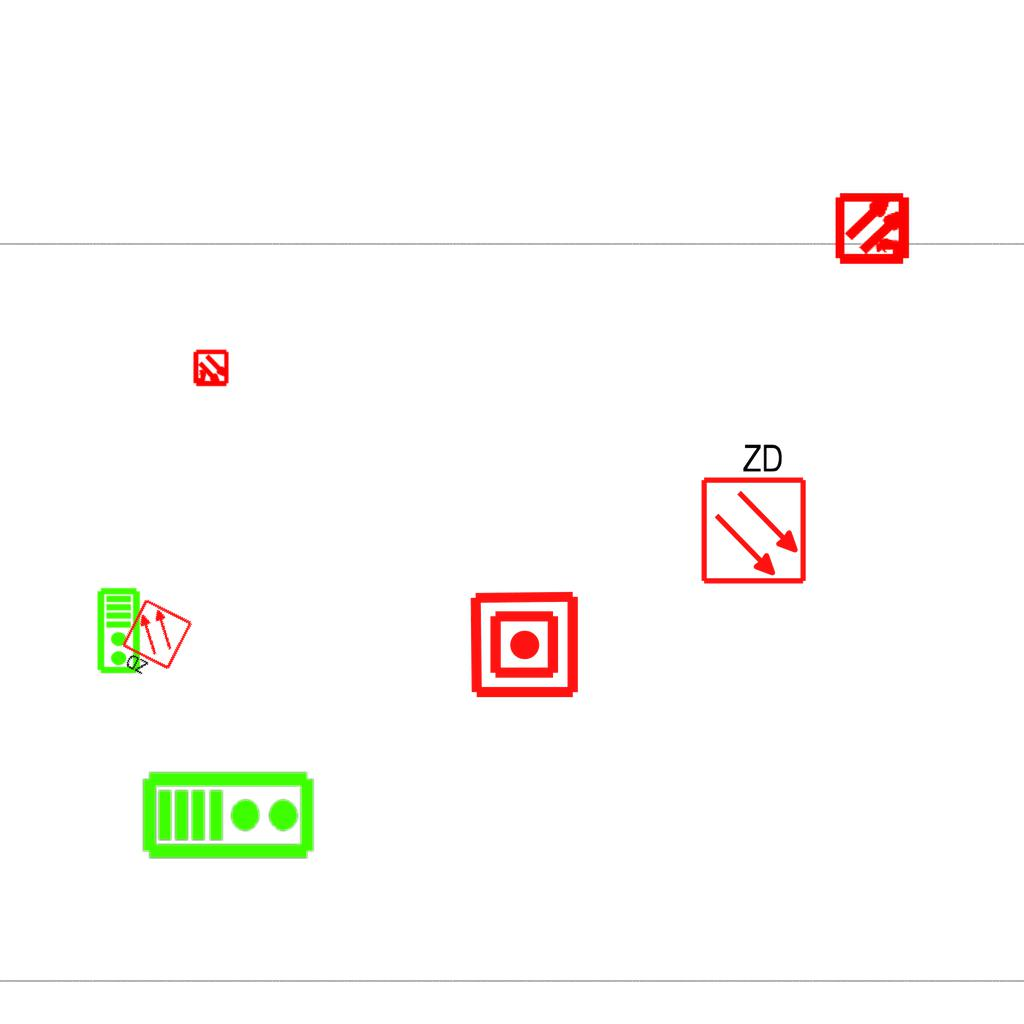Gegensprechanlage_mit_Video: (141, 766, 317, 861), (96, 587, 143, 675)
NAM-Nichtautomatischer_Melder: (468, 588, 581, 701)
OT_Multisensormelder_(Kombination_RMO_WMD): (818, 172, 931, 285), (183, 341, 239, 397)
ZD_Melder_in_Zwischendecke_mit_Revisionsoeffnung_mind_40_x_40_cm: (695, 437, 809, 586), (111, 597, 196, 689)
